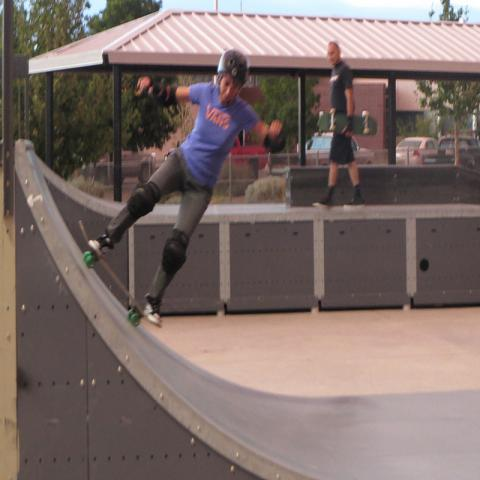car: (78, 150, 155, 186), (306, 132, 376, 165), (436, 136, 480, 171), (396, 138, 439, 165)
truck: (224, 137, 268, 178)
